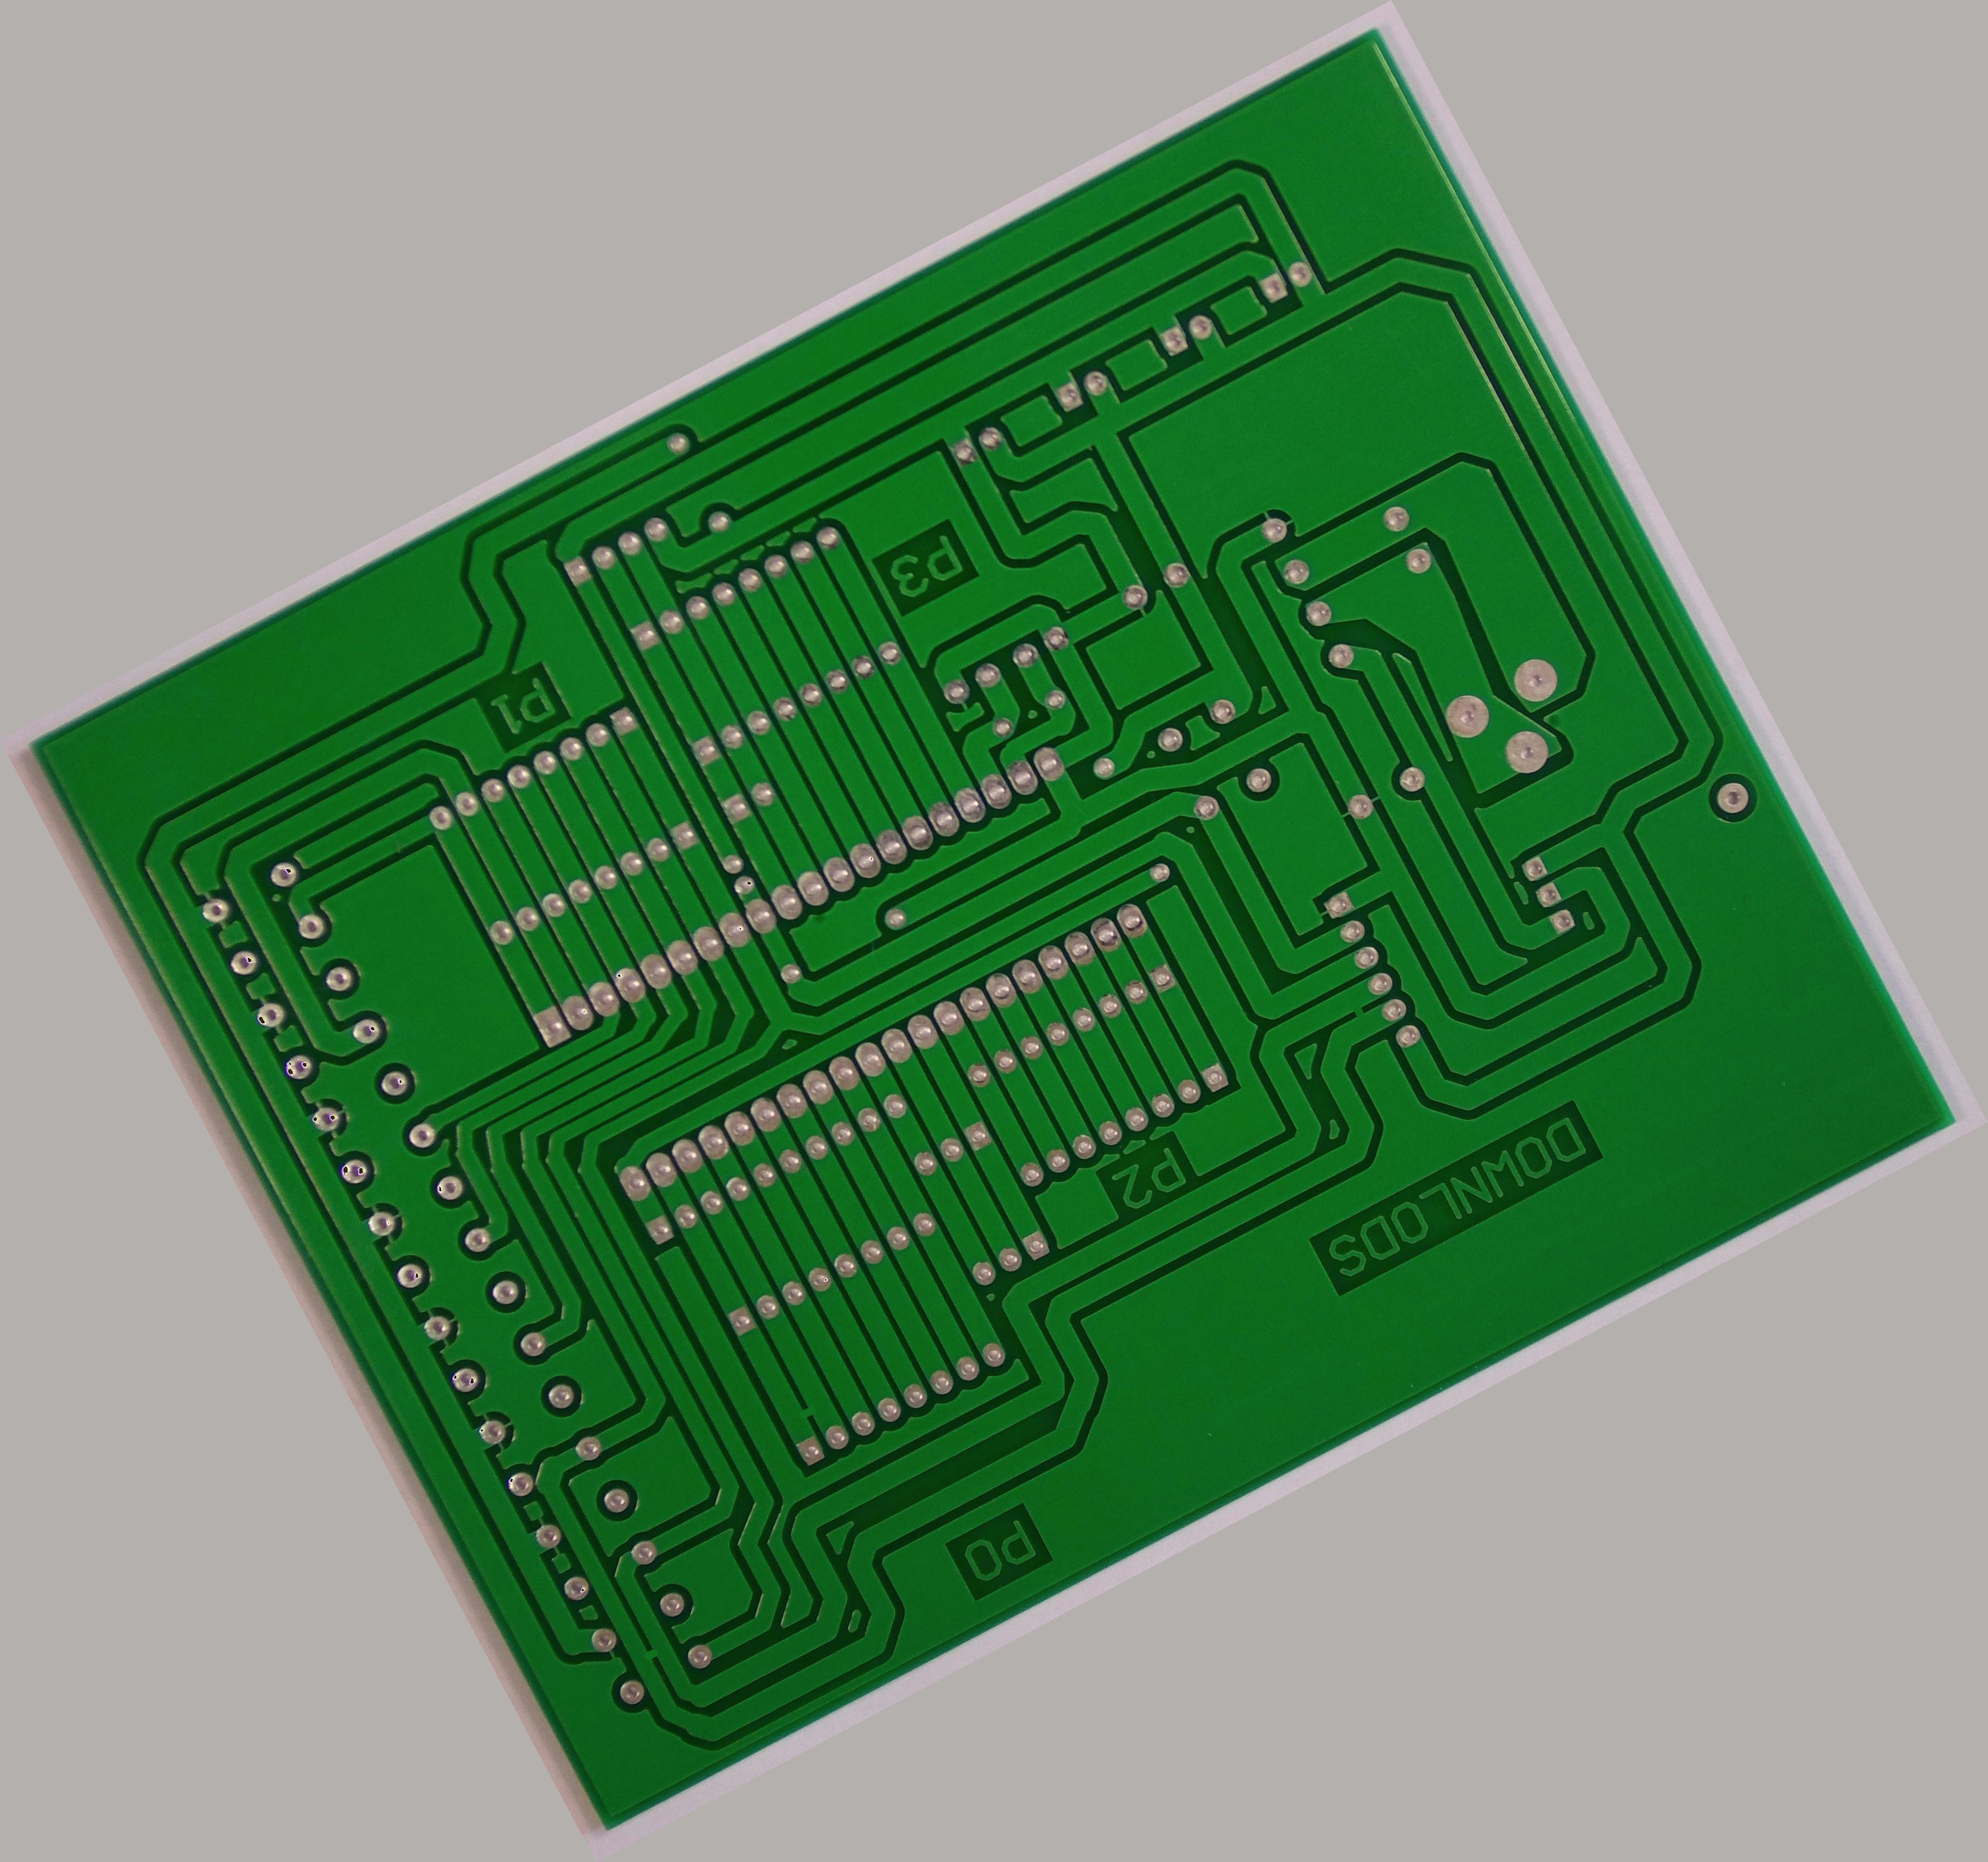short: (761, 1370, 842, 1446), (621, 1619, 684, 1682), (1332, 980, 1388, 1040)
